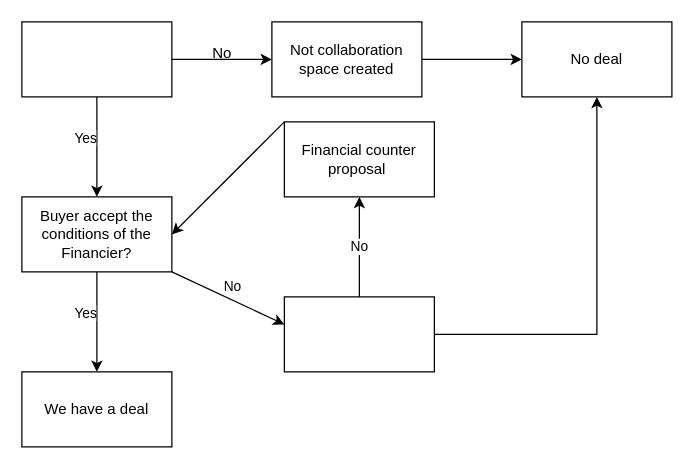
Some shapes in this 694 by 469 pixel diagram are drawn without their labels. Here are the shapes that lost their labels. From the top down, the centre of each, then its label:
the point at 96,59: Financier has been approved?
the point at 358,334: The buyer commit another counter proposal, Financier accept it?
